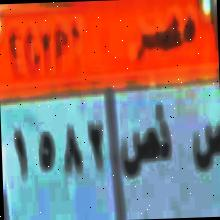1: (10, 122, 30, 190)
2: (87, 118, 106, 177)
5: (36, 126, 56, 182)
8: (60, 126, 83, 182)
saad: (119, 123, 157, 182), (189, 118, 220, 177)
zaal: (154, 102, 174, 164)
